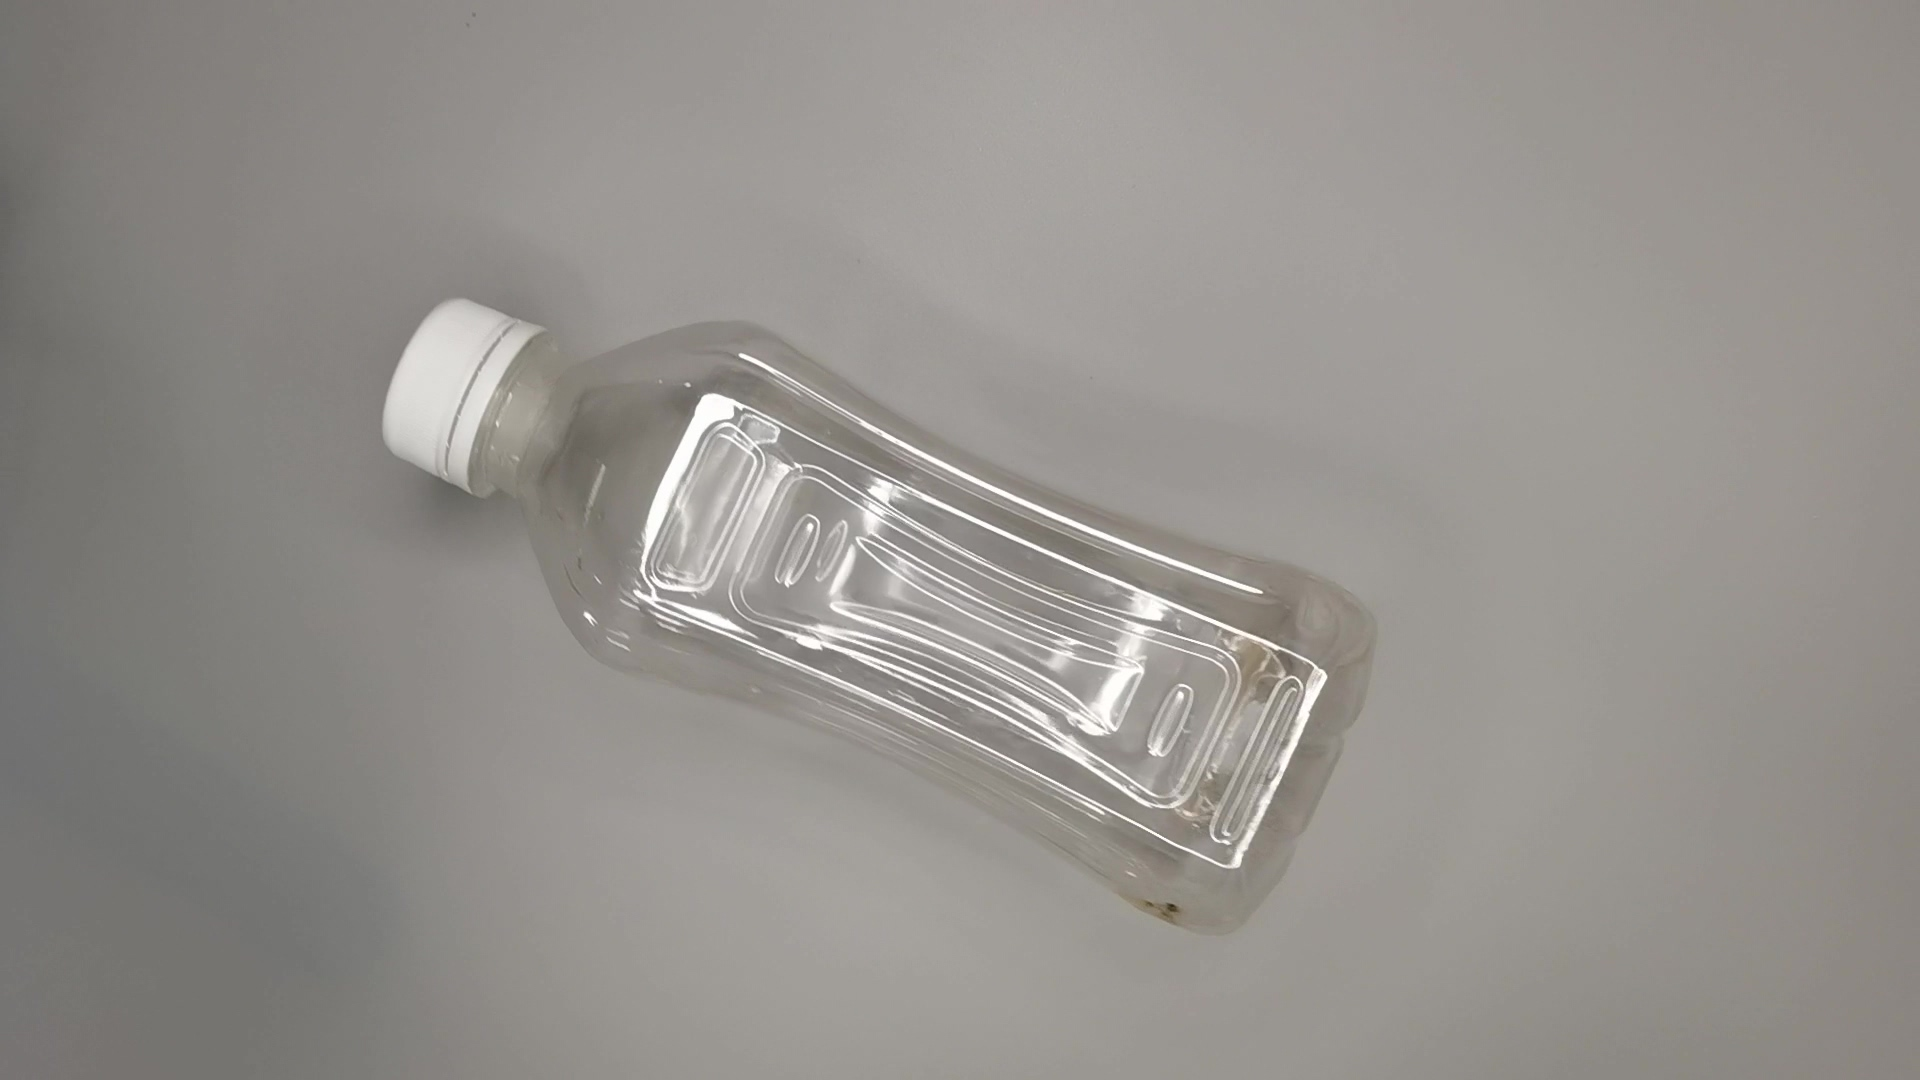bottle: (357, 289, 1391, 939)
